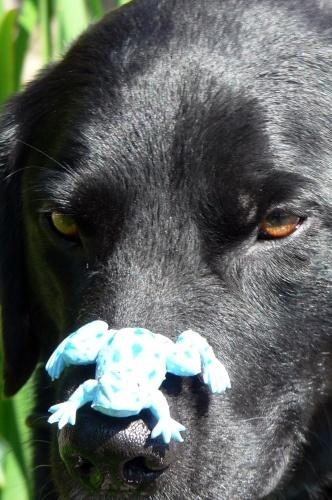dog: (3, 1, 331, 500)
